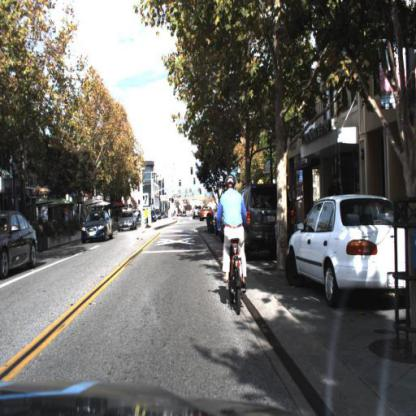biker: (215, 174, 250, 318)
car: (284, 193, 415, 311), (241, 180, 301, 265), (1, 210, 39, 281), (83, 211, 115, 244), (116, 209, 140, 233), (197, 201, 215, 225)
